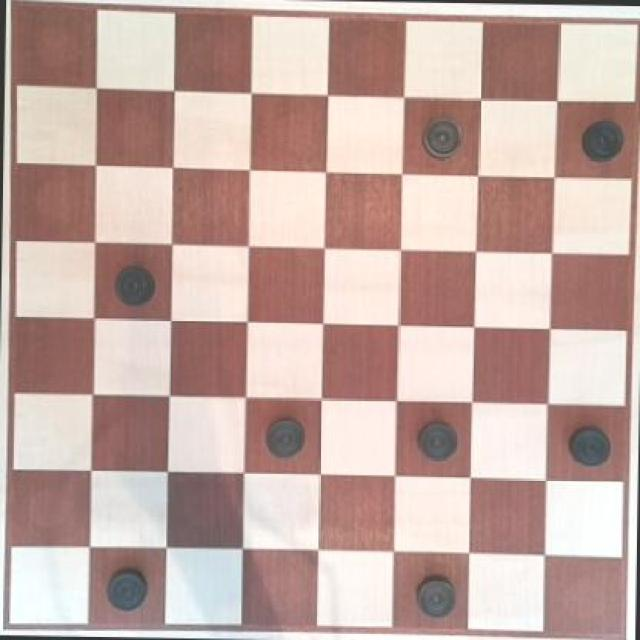BOARD: (13, 2, 635, 639)
black: (578, 114, 634, 170), (261, 407, 314, 465), (412, 413, 463, 467), (108, 257, 158, 307), (568, 418, 614, 471), (413, 567, 457, 620), (105, 564, 151, 612), (420, 112, 463, 158)
